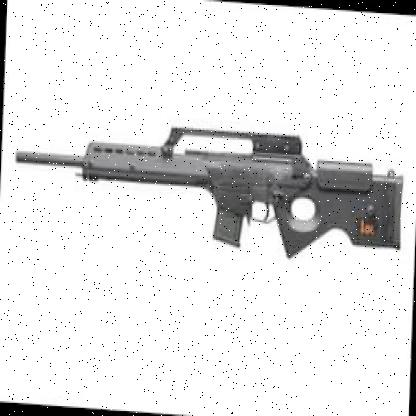rifle: (8, 105, 408, 265)
